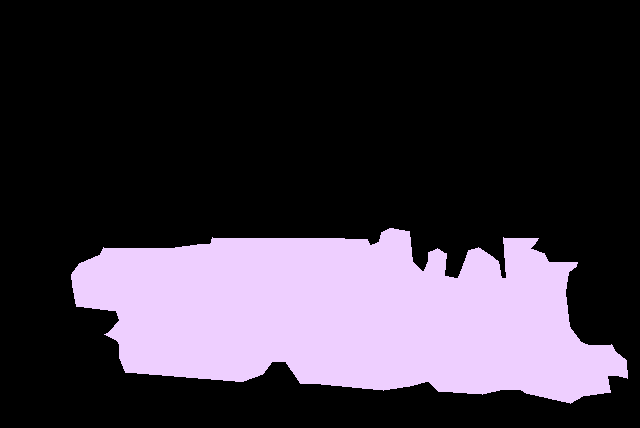Train: (71, 228, 628, 403)
